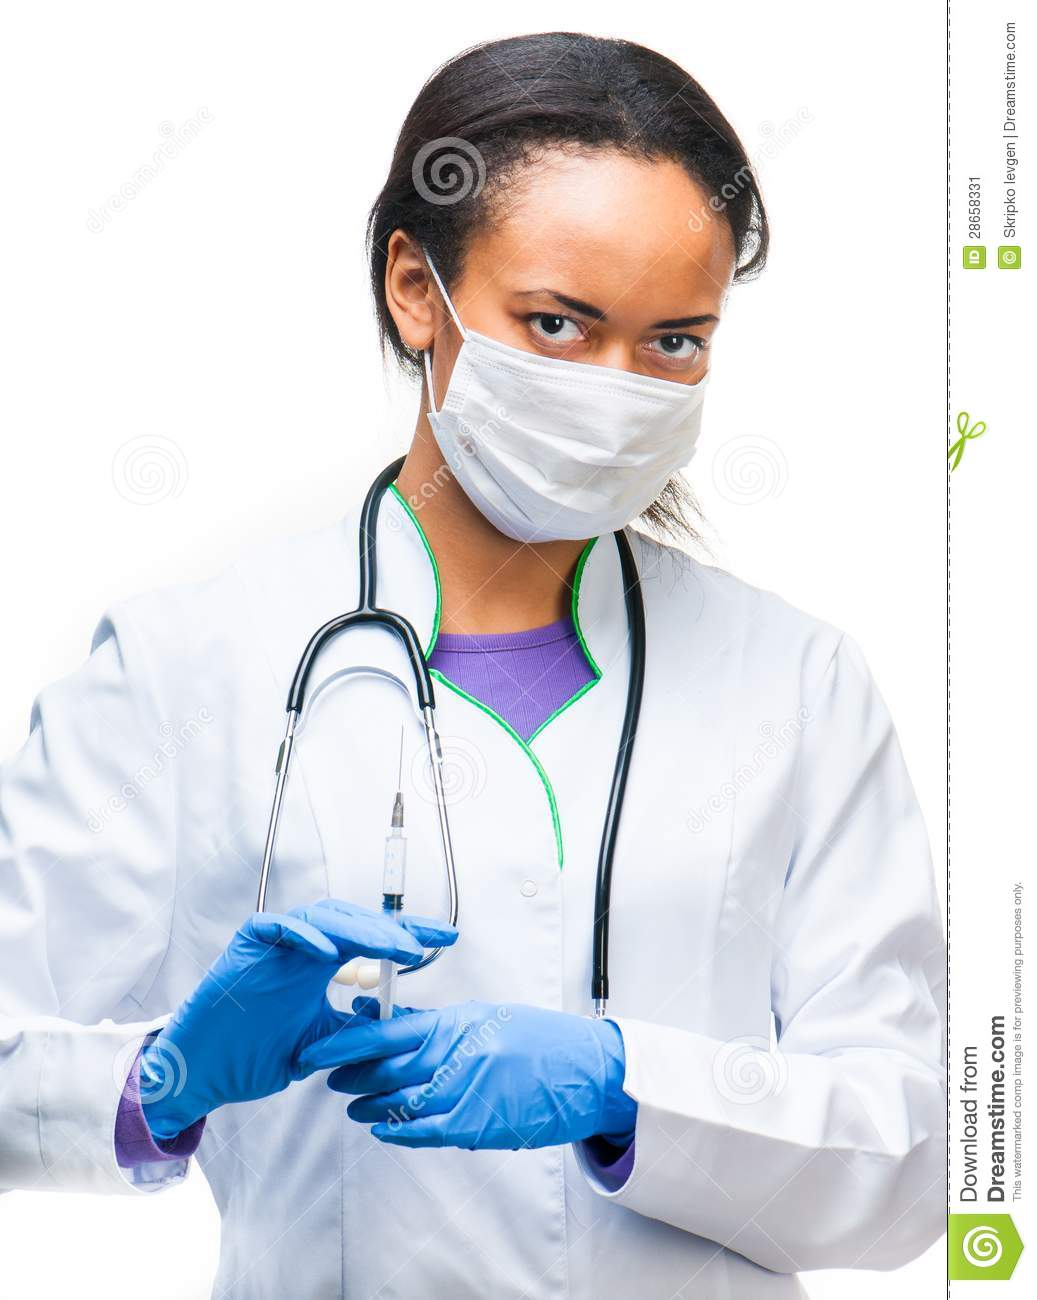mask: (418, 351, 702, 565)
